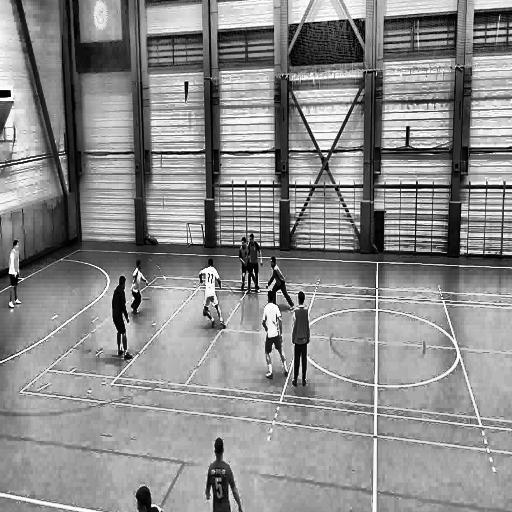ball: (202, 307, 208, 318)
player: (260, 291, 291, 384), (206, 435, 242, 512), (199, 255, 226, 332), (291, 292, 311, 390), (112, 276, 132, 361), (266, 257, 295, 312), (7, 238, 25, 316), (130, 260, 149, 318), (247, 228, 263, 294), (134, 483, 163, 512), (239, 228, 249, 292)
